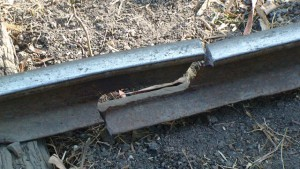crack: (74, 27, 219, 134)
